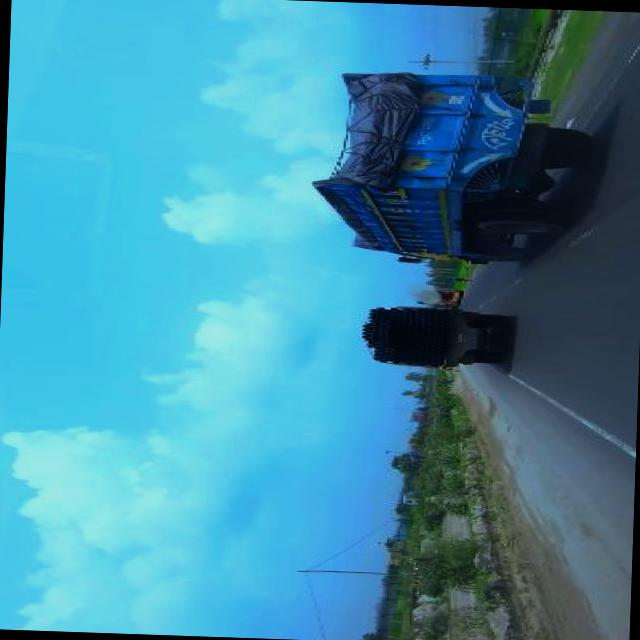truck: (309, 66, 588, 267), (354, 301, 504, 368)
